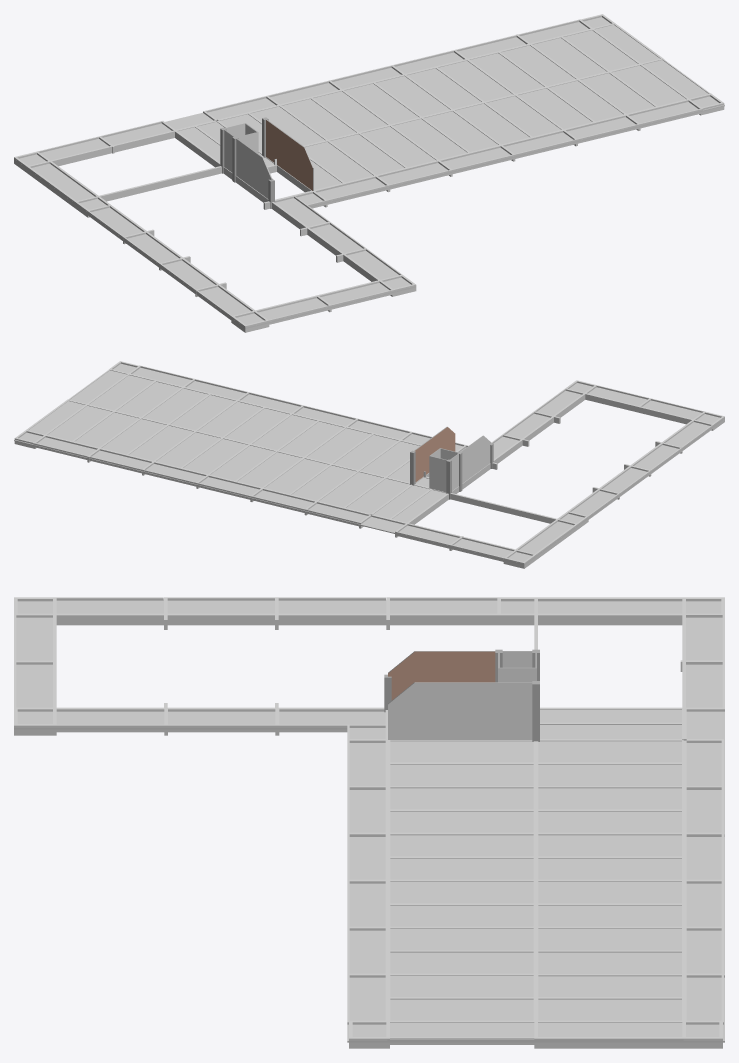
3 views of the same model, one above another, from view 1: azimuth 30°, elevation 25°; view 2: azimuth 150°, elevation 25°; view 3: azimuth 270°, elevation 25° (orthographic). The views are drawn at different scales.
Visible parts, largest first — view 1: EN120M199; view 2: EN120M199; view 3: EN120M199.
Part boxes in pixels (left/top/right/bottom): EN120M199: left=14, top=14, right=724, bottom=332; EN120M199: left=14, top=361, right=724, bottom=568; EN120M199: left=14, top=597, right=724, bottom=1048.
Size of what is drawn, in the model's own units: 56.4 by 4 by 38.4.
